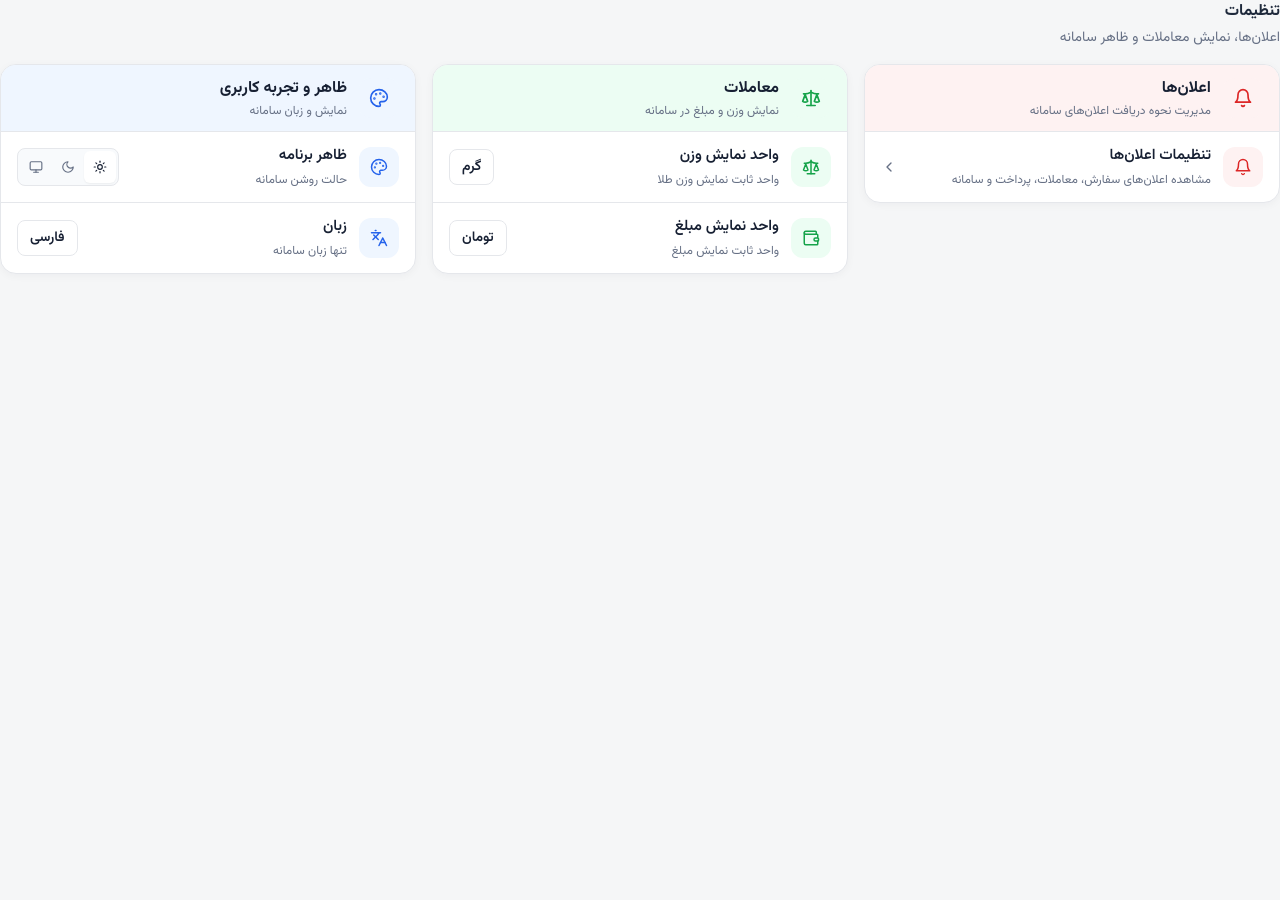
Test: theme controls › lets the user pick dark appearance from settings
Click the radio button named "تاریک" at (68, 167), box [52,151,84,183]
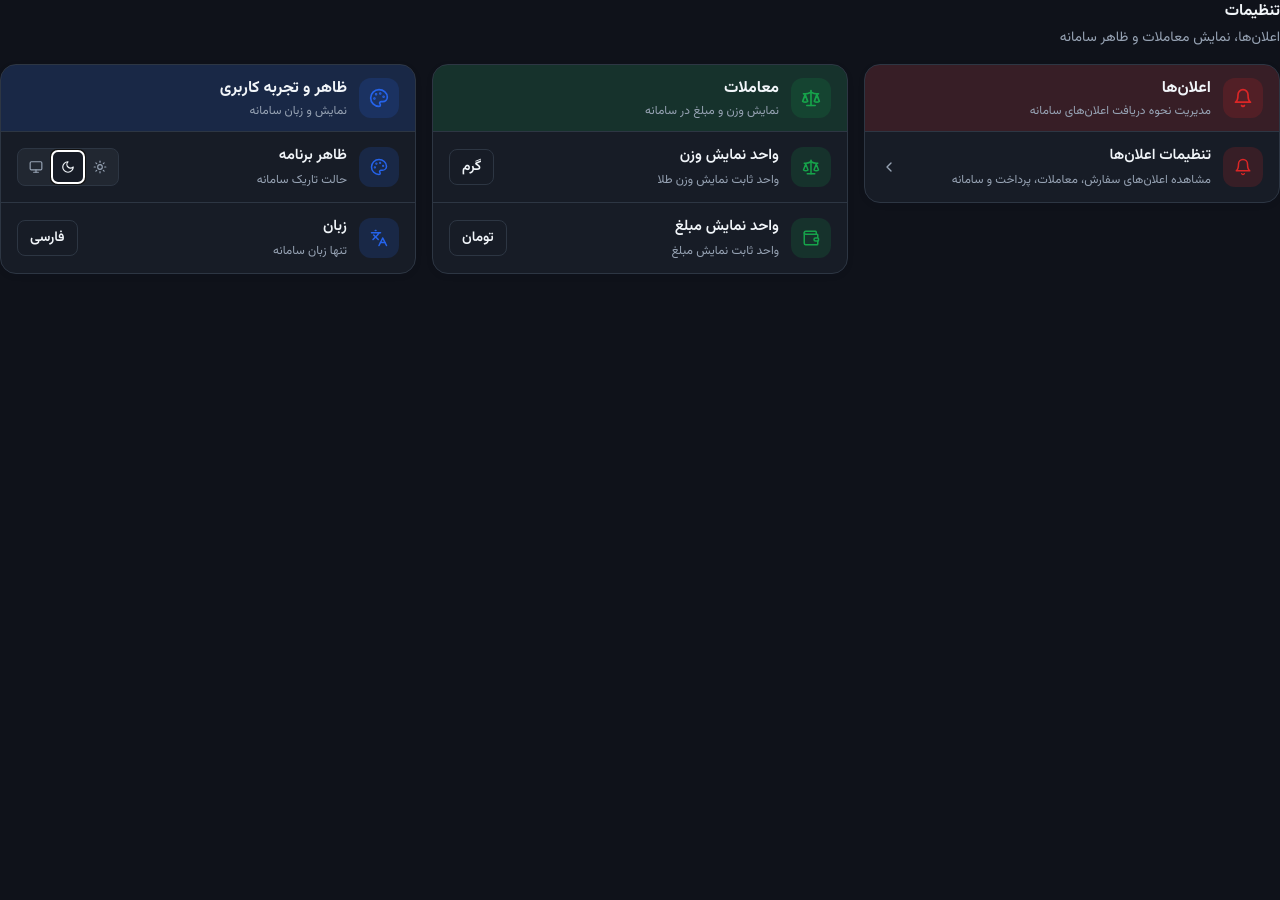
Now the text "حالت تاریک سامانه" is shown, box [257,171,347,189]
